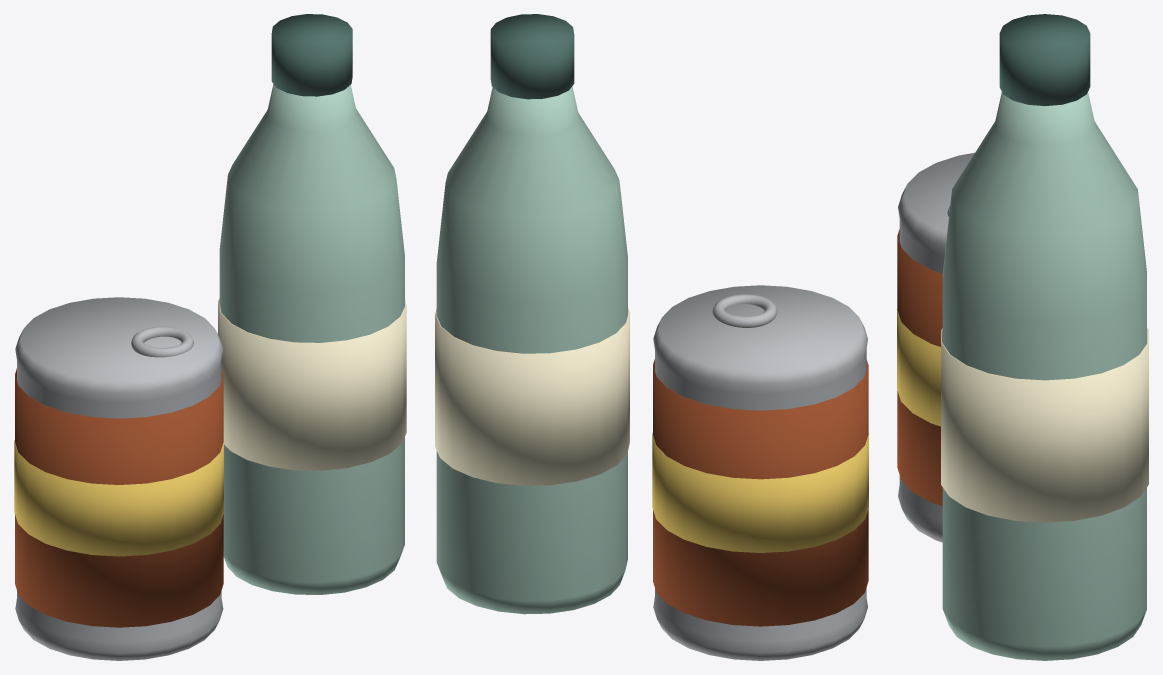
Rendered from food.glb.
The picture shows the model from 3 angles, left to right: view 1: azimuth 30°, elevation 25°; view 2: azimuth 150°, elevation 25°; view 3: azimuth 270°, elevation 25°; orthographic projection. The views are drawn at different scales.
Parts seen in each view (by area): view 1: bottle, label, can, blabel, band, cap, pull; view 2: bottle, label, can, blabel, band, cap, pull; view 3: bottle, blabel, cap, label, can, band.
Part boxes in pixels (<box>): bottle: <box>219,84,404,594</box>; label: <box>15,368,223,627</box>; can: <box>15,297,223,660</box>; blabel: <box>218,298,406,470</box>; band: <box>14,440,223,556</box>; cap: <box>271,14,352,96</box>; pull: <box>131,326,193,357</box>; bottle: <box>436,86,627,614</box>; label: <box>653,359,868,626</box>; can: <box>653,285,867,660</box>; blabel: <box>435,307,629,485</box>; band: <box>652,432,868,552</box>; cap: <box>490,14,574,99</box>; pull: <box>712,294,777,327</box>; bottle: <box>942,92,1146,660</box>; blabel: <box>941,328,1148,522</box>; cap: <box>999,14,1090,105</box>; label: <box>897,229,942,505</box>; can: <box>898,152,974,542</box>; band: <box>897,309,940,426</box>.
Bounding box in the file's own units: 0.1559 × 0.207 × 0.0806.
